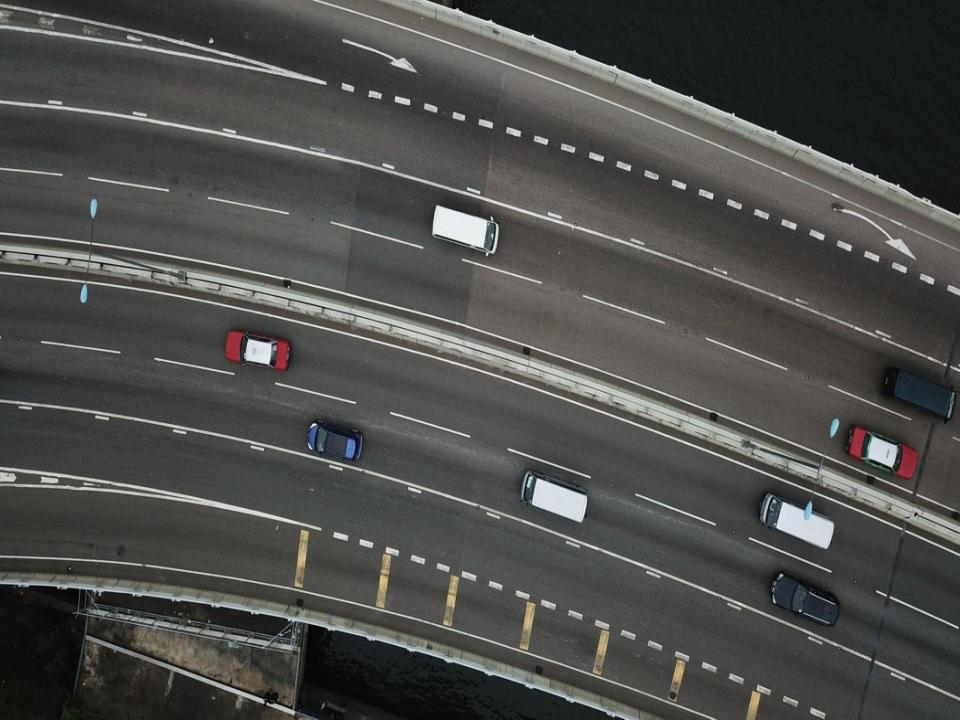car: (843, 424, 919, 482), (768, 570, 840, 630), (223, 328, 293, 373), (306, 417, 365, 467)
van: (756, 490, 836, 554), (879, 365, 957, 426), (517, 466, 589, 525), (431, 201, 501, 260)
